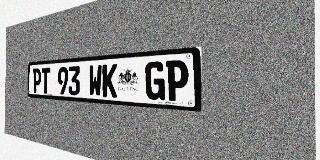3: (68, 66, 80, 95)
9: (58, 67, 68, 95)
G: (145, 61, 165, 100)
K: (102, 64, 117, 98)
P: (166, 60, 188, 102), (33, 68, 41, 93)
T: (41, 68, 50, 94)
W: (88, 65, 102, 97)
